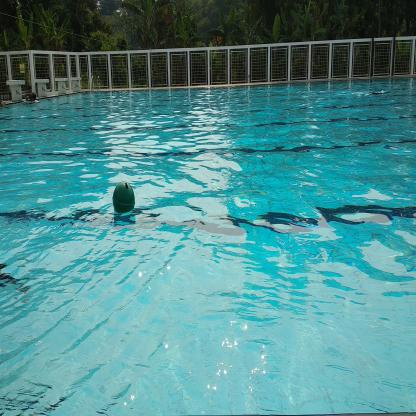green_buoy: (111, 176, 137, 218)
